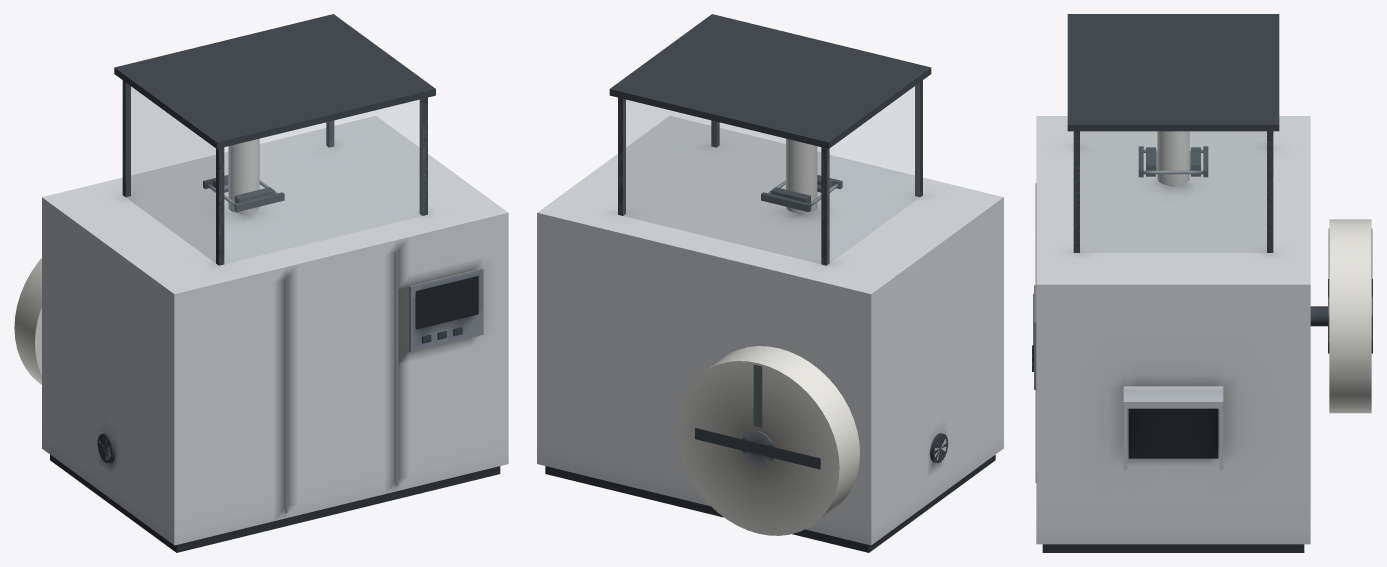
The model's file is aseptic-filler.glb.
3 views of the same model, side by side, from view 1: azimuth 30°, elevation 25°; view 2: azimuth 150°, elevation 25°; view 3: azimuth 270°, elevation 25° (orthographic). The views are drawn at different scales.
Parts seen in each view (by area): view 1: body_paint, body_matte, body_glass, reel, jaws; view 2: body_paint, body_glass, body_matte, reel, jaws; view 3: body_paint, body_matte, body_glass, reel, jaws.
Part boxes in pixels (<box>): body_paint: <box>42,115,508,545</box>; body_matte: <box>50,14,500,552</box>; body_glass: <box>123,83,427,263</box>; reel: <box>14,258,41,384</box>; jaws: <box>203,175,284,211</box>; body_paint: <box>537,116,1003,545</box>; body_glass: <box>618,83,919,264</box>; body_matte: <box>545,14,995,552</box>; reel: <box>676,346,859,535</box>; jaws: <box>761,175,842,211</box>; body_paint: <box>1036,116,1310,544</box>; body_matte: <box>1032,14,1328,552</box>; body_glass: <box>1074,131,1272,252</box>; reel: <box>1328,219,1372,413</box>; jaws: <box>1138,146,1208,177</box>.
Bounding box in the file's own units: 3.53 × 3.56 × 2.73.
